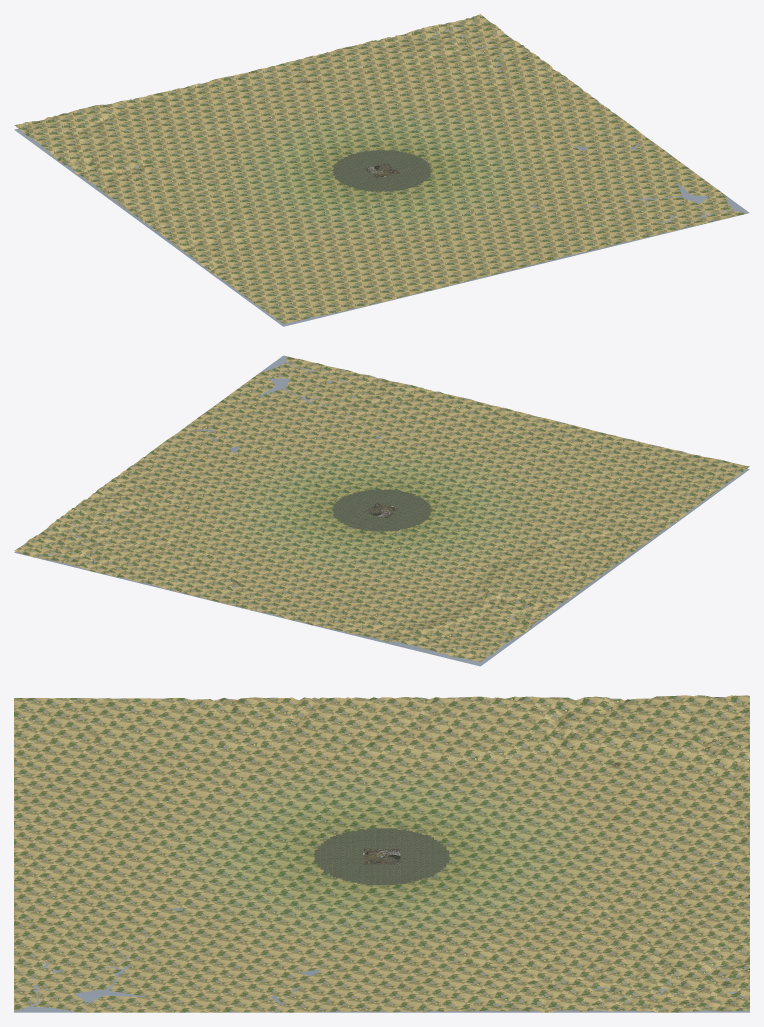
The model's file is blacktown_backdrop_part1.glb.
3 renders of one model, top to bottom at view 1: azimuth 30°, elevation 25°; view 2: azimuth 150°, elevation 25°; view 3: azimuth 270°, elevation 25°, orthographic. The views are drawn at different scales.
Parts seen in each view (by area): view 1: bg_far_terrain, bg_far_suburb, bg_far_water; view 2: bg_far_terrain, bg_far_suburb, bg_far_water; view 3: bg_far_terrain, bg_far_suburb, bg_far_water, bg_near_ground.
Boxes of the visible parts, x1=… form: bg_far_terrain: x1=14, y1=14, x2=747, y2=323; bg_far_suburb: x1=332, y1=150, x2=431, y2=191; bg_far_water: x1=14, y1=18, x2=749, y2=326; bg_far_terrain: x1=14, y1=356, x2=749, y2=662; bg_far_suburb: x1=332, y1=489, x2=431, y2=531; bg_far_water: x1=14, y1=355, x2=749, y2=666; bg_far_terrain: x1=14, y1=695, x2=749, y2=1012; bg_far_suburb: x1=314, y1=828, x2=449, y2=885; bg_far_water: x1=14, y1=777, x2=749, y2=1012; bg_near_ground: x1=363, y1=848, x2=400, y2=864.
Bounding box in the file's own units: 60026 × 640 × 60015.
31 materials, 19 textured.
